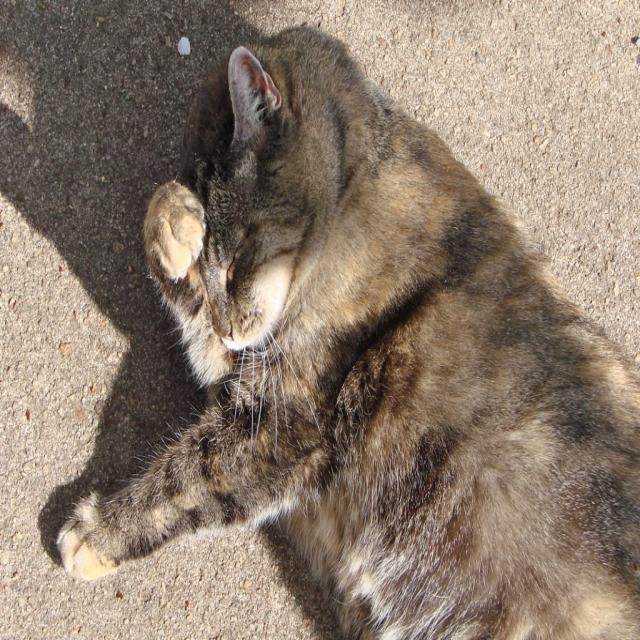Cat: (55, 24, 639, 639)
